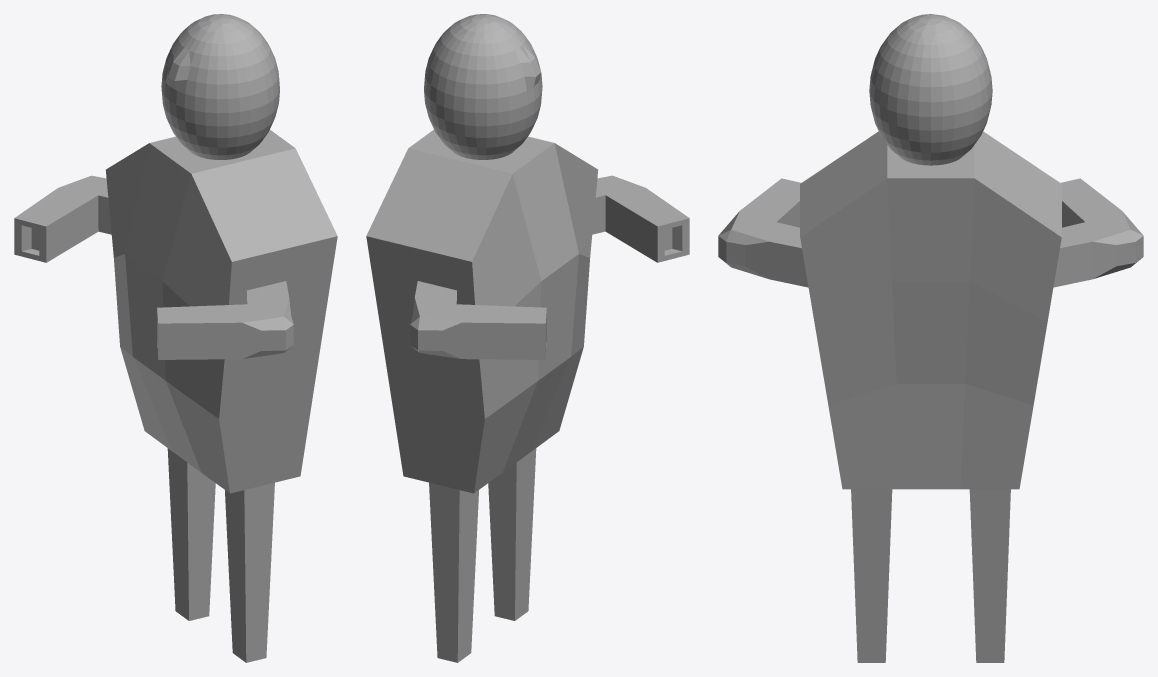
Rendered from knight-body.gltf.
The picture shows the model from 3 angles, left to right: view 1: azimuth 30°, elevation 25°; view 2: azimuth 150°, elevation 25°; view 3: azimuth 270°, elevation 25°; orthographic projection. The views are drawn at different scales.
Parts seen in each view (by area): view 1: Cube.002; view 2: Cube.002; view 3: Cube.002.
Part boxes in pixels (x1,y1,x2,y2): Cube.002: (14,14,337,662); Cube.002: (366,14,689,662); Cube.002: (718,14,1143,662).
Bounding box in the file's own units: 2.48 × 7.74 × 4.67.
1 material, 1 textured.
